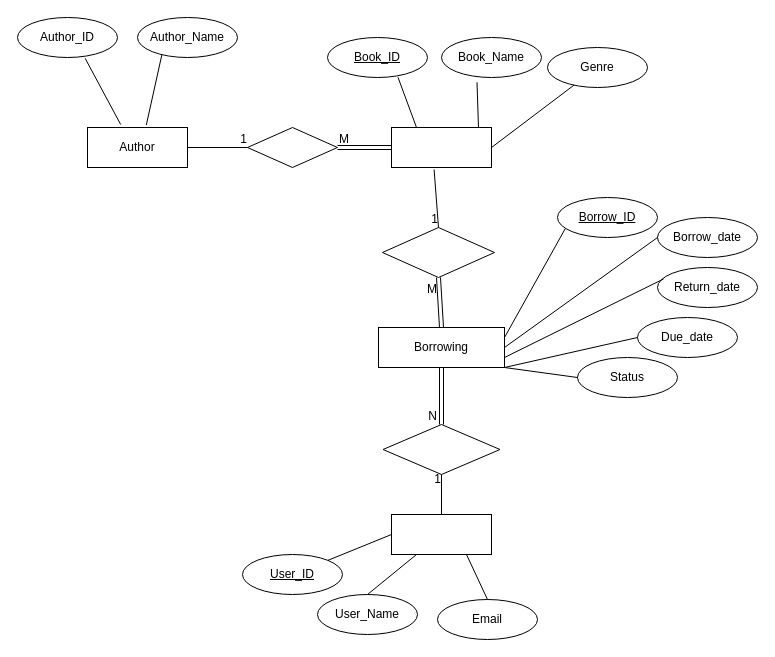
The diagram is 775 pixels wide and 657 high, and some of its shapes have lost their labels. Here are the shapes that lost their labels. From the top down, the box of each, then its label:
(246, 126, 338, 168): Writing
(390, 126, 492, 168): Books
(382, 226, 494, 278): book_borrowing
(382, 424, 500, 474): borrowing_book
(390, 514, 492, 554): User
